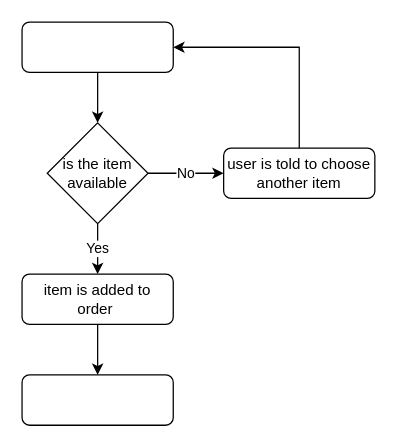
Image size: 397x447. Some labels were removed from this diagram. The shapes that lost their labels are listed below. From the top down, each one's centre as x and y in pixels, then its label:
the point at 97,46: User selects item
the point at 97,399: User is sent back to item selection
